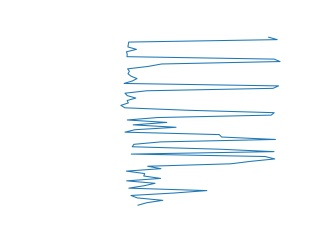crevasseRiverChannelBar: (121, 160, 269, 206)
majorRiverBedLagDeposit: (122, 121, 282, 162)
majorRiverChannelBar: (117, 35, 282, 118)
